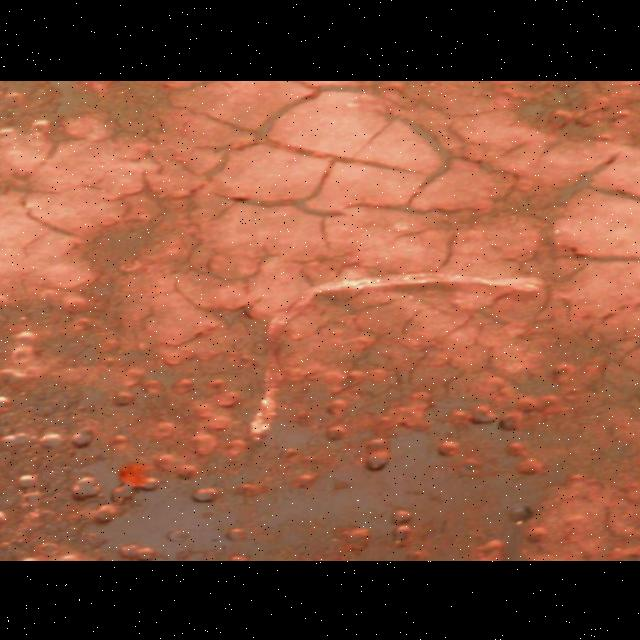Fibre: (230, 252, 552, 450)
